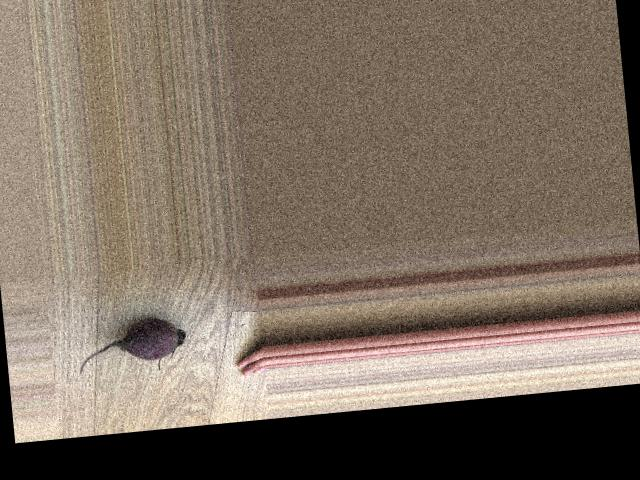beet: (74, 316, 187, 377)
